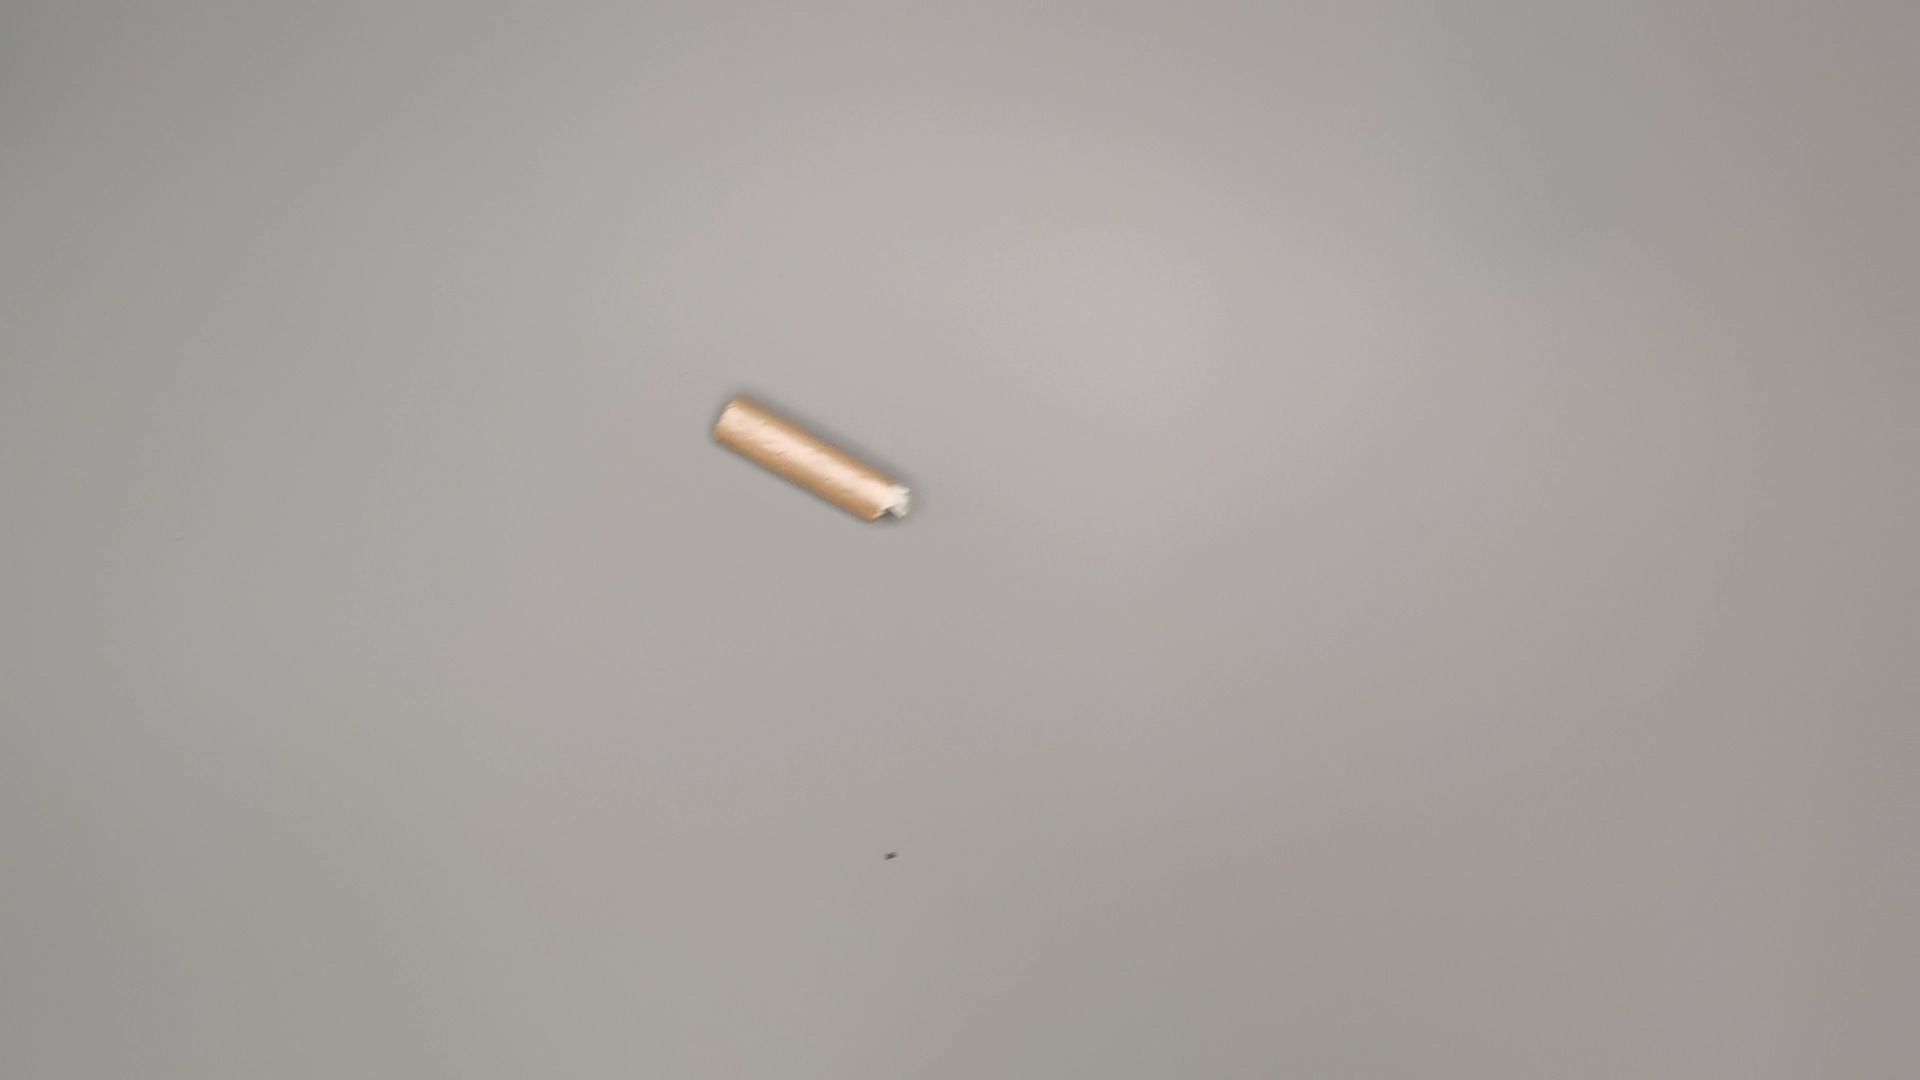cigarette: (698, 389, 918, 534)
